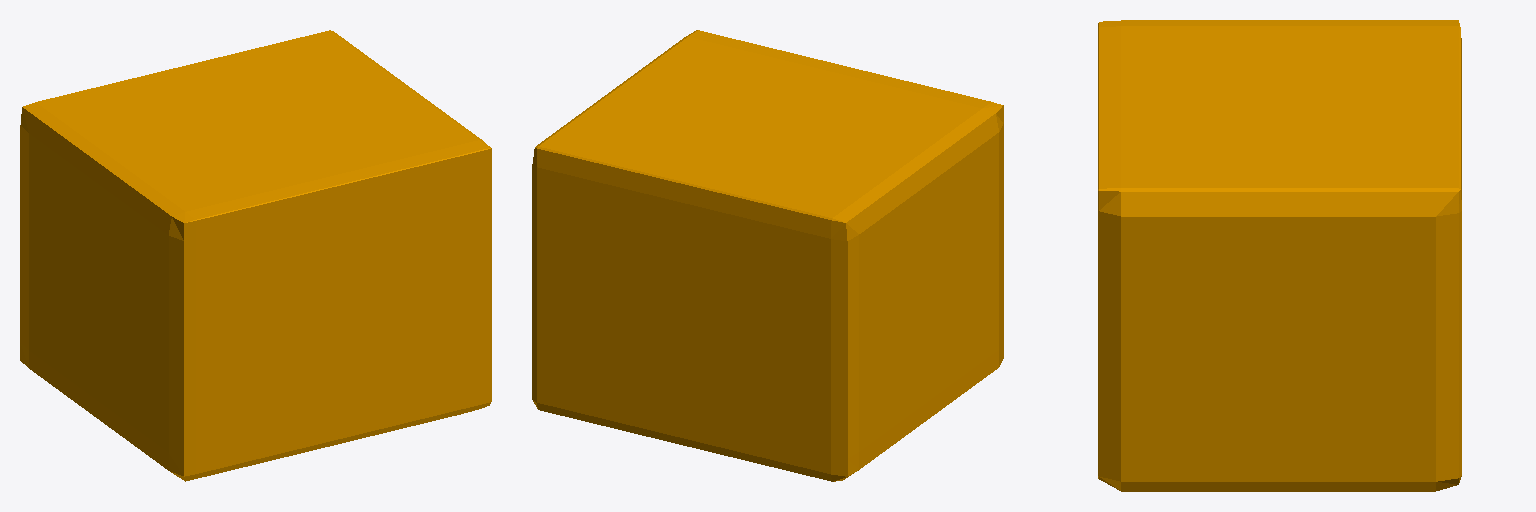
URDF robot description (cylinder_box_47):
<?xml version="1.0" encoding="utf-8"?>  <robot name="cylinder_box_47">   <link name="cylinder_box_47">     <visual>       <geometry>         <mesh filename="../meshes/box/box_47.stl" scale="1 1 1"/>       </geometry>     </visual>     <collision>       <geometry>         <mesh filename="../meshes/box/box_47.stl" scale="1 1 1"/>       </geometry>     </collision>     <inertial>        <origin         xyz="0 0 0"         rpy="0 0 0" />       <mass value="0.5578407990830906"/>       <origin rpy="0 0 0" xyz="0 0 0"/>       <inertia ixx="0.000557130630394124" ixy="8.083391883832377e-09" ixz="7.66422049135165e-07" iyy="0.0006547245583400456" iyz="3.030905503525281e-07" izz="0.0007015517516717188"/>     </inertial>   </link>  </robot>

--- Render facts (derived) ---
The picture shows the robot from 3 angles, left to right: view 1: azimuth 30°, elevation 25°; view 2: azimuth 150°, elevation 25°; view 3: azimuth 270°, elevation 25°; orthographic projection.
Robot: cylinder_box_47 — 1 links, 0 joints (none); root link cylinder_box_47; default pose: all joints at 0.
Visible links, largest first — view 1: cylinder_box_47; view 2: cylinder_box_47; view 3: cylinder_box_47.
Boxes of the visible links, x1,y1,x2,y2 form: cylinder_box_47: [20, 30, 491, 481]; cylinder_box_47: [532, 30, 1003, 481]; cylinder_box_47: [1098, 20, 1461, 491].
Size in the robot's own frame: 0.0933 by 0.081 by 0.0745 metres.
Meshes: 1 distinct files referenced, 1 mesh visuals loaded (1 binary STL).